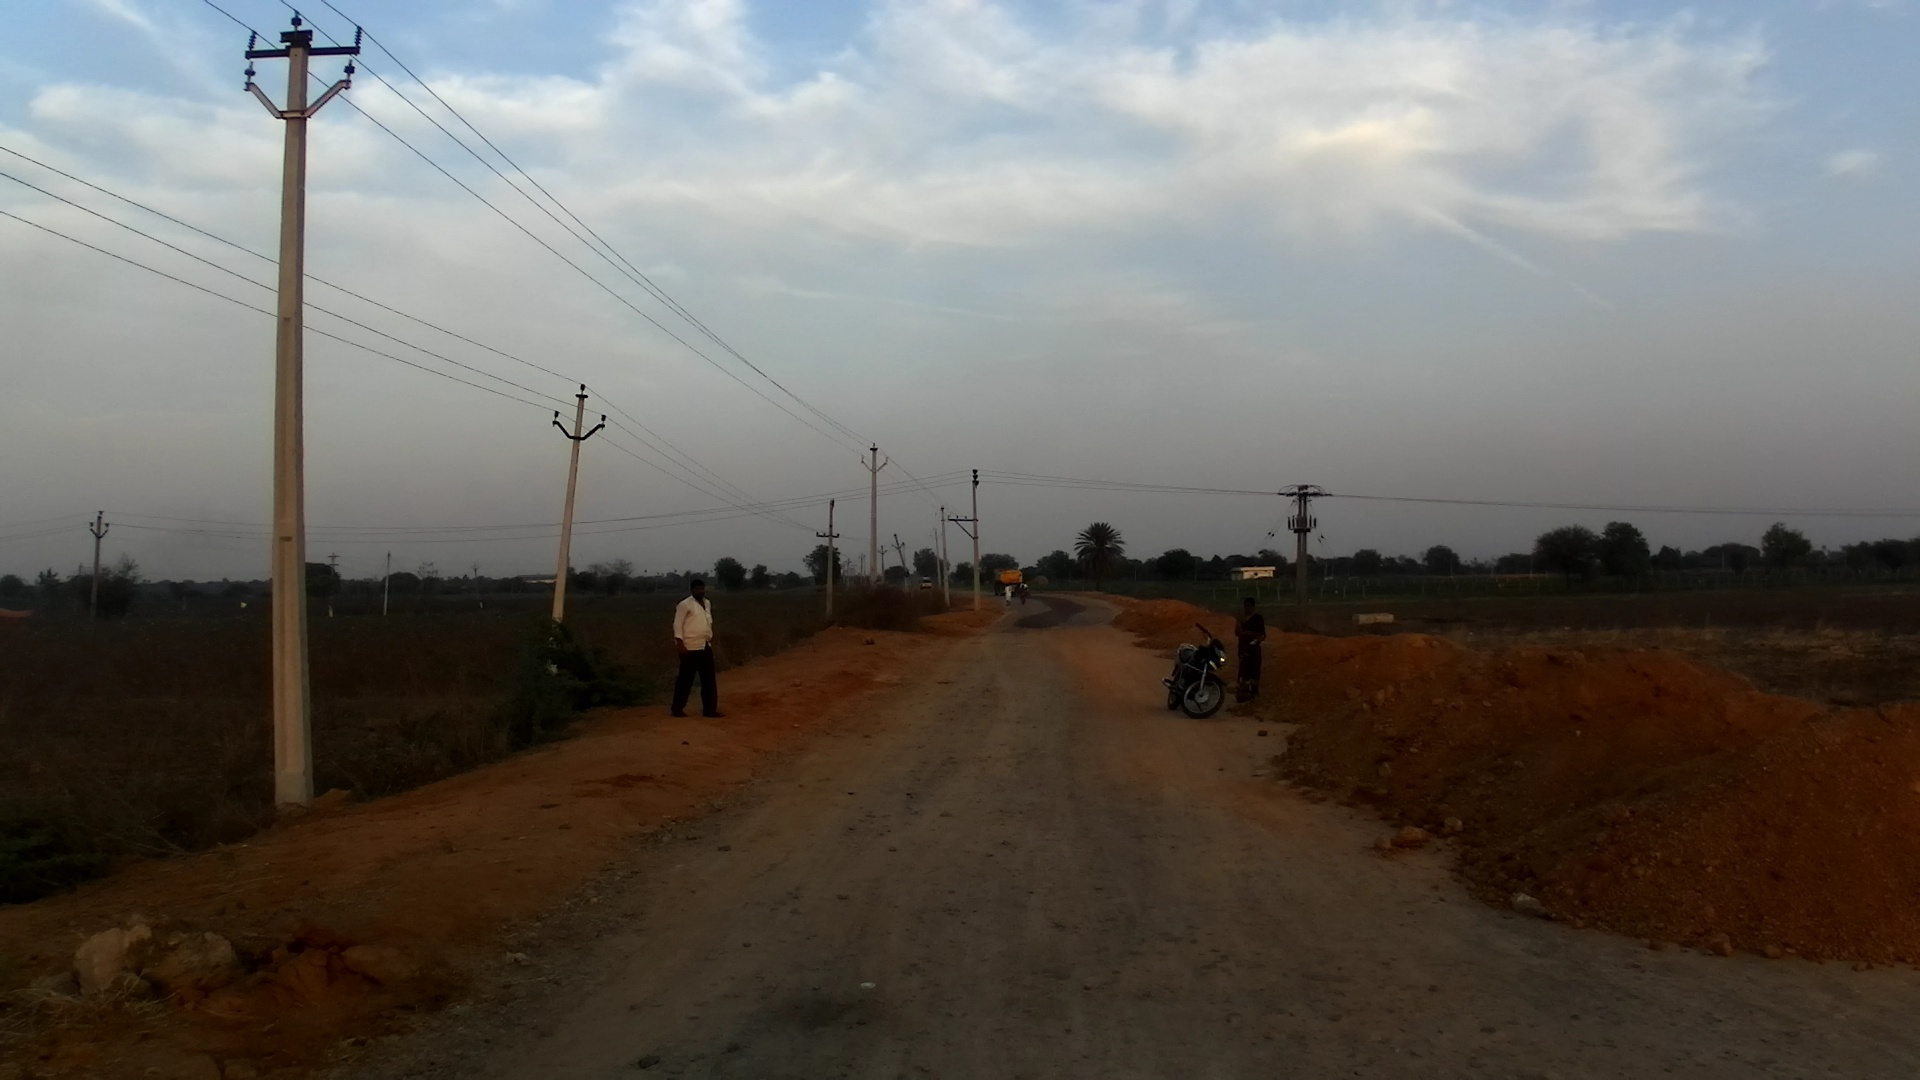car: (921, 578, 936, 592)
motorcycle: (1162, 622, 1230, 727)
person: (667, 578, 726, 729), (1233, 590, 1268, 705), (1017, 580, 1032, 606), (1002, 583, 1014, 607)
truck: (990, 568, 1026, 599)
